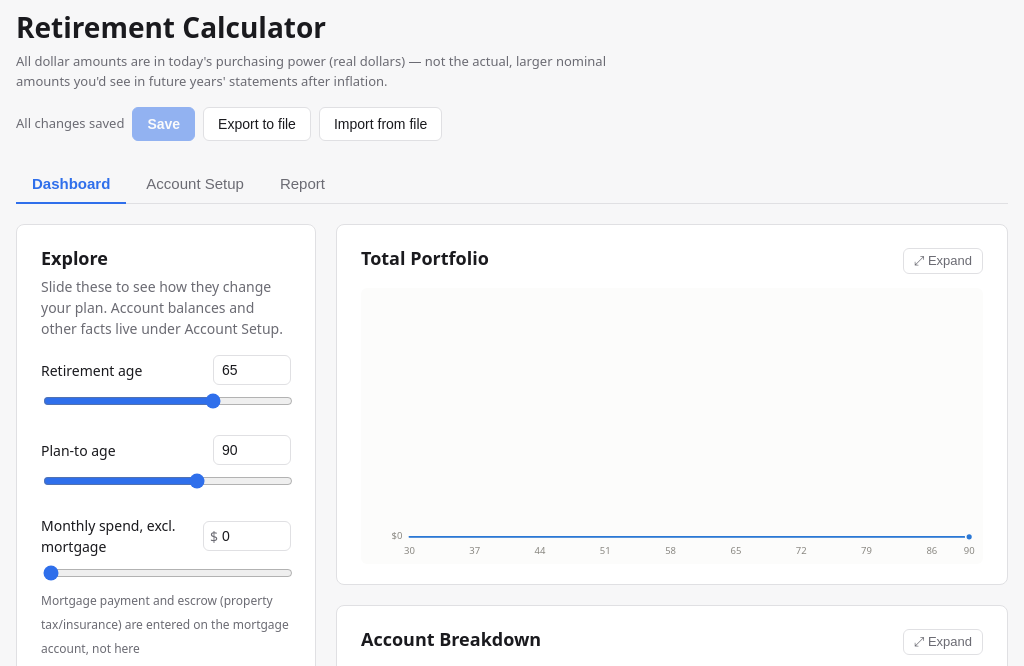
Scenario: App › adding a pension defaults to a fixed-amount type, not FERS
Expected: the heading "Retirement Calculator" is shown, [16,8,326,46]
Click the tab "Account Setup" at (195, 184), box [130,165,260,204]
(page scrolled)
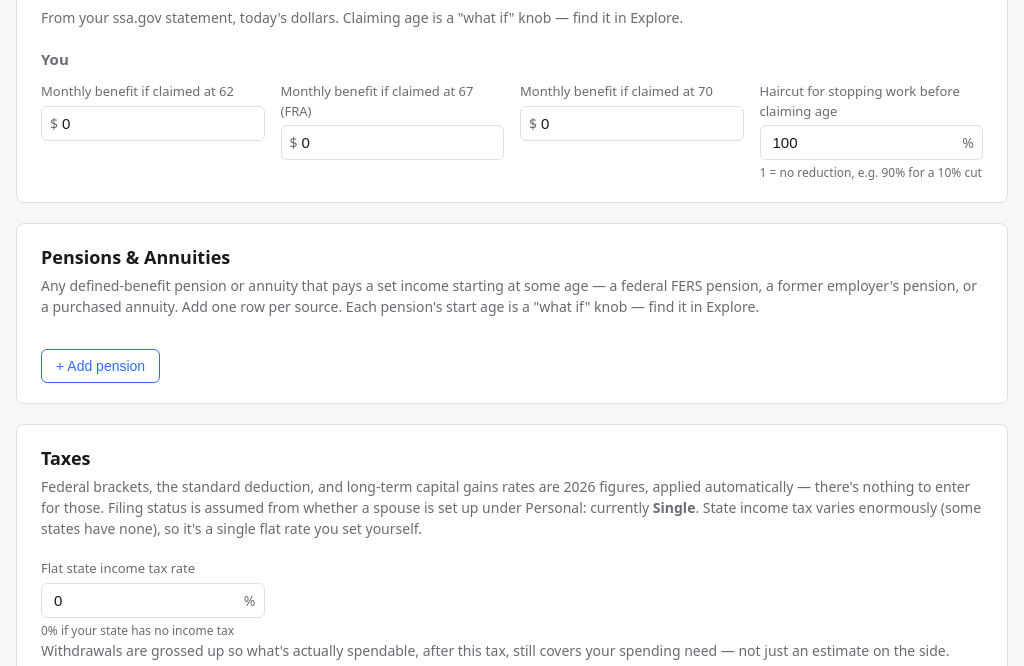
Click the button "+ Add pension" at (101, 366), box [41,349,160,383]
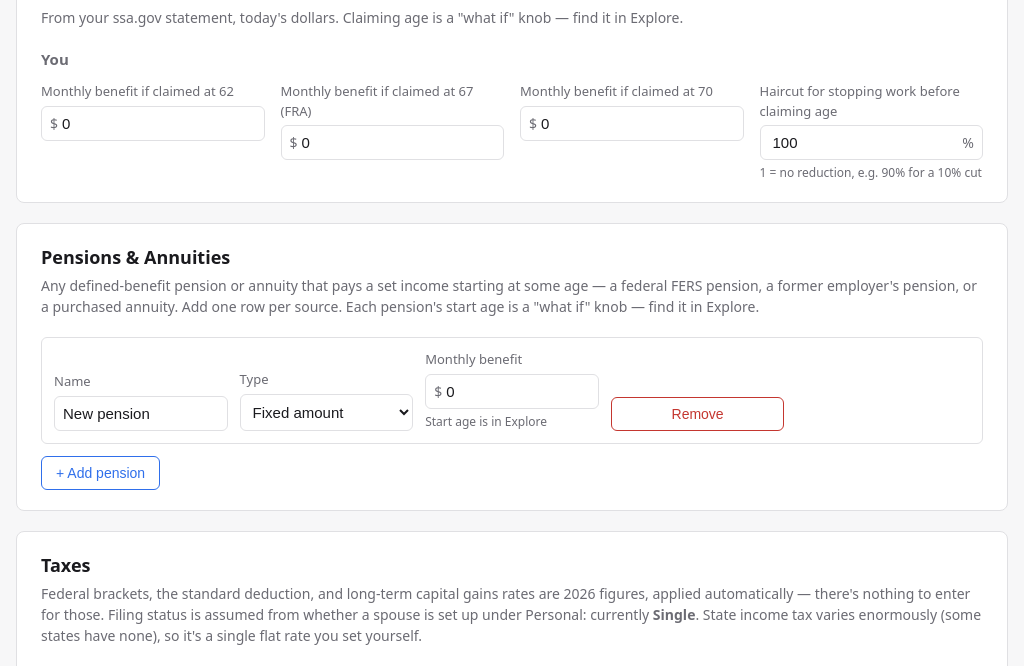
Result: the field showing "New pension" is shown at [54,396,228,430]
Result: the number field labelled "Monthly benefit $ Start age is in Explore" is shown at [442,374,590,408]
